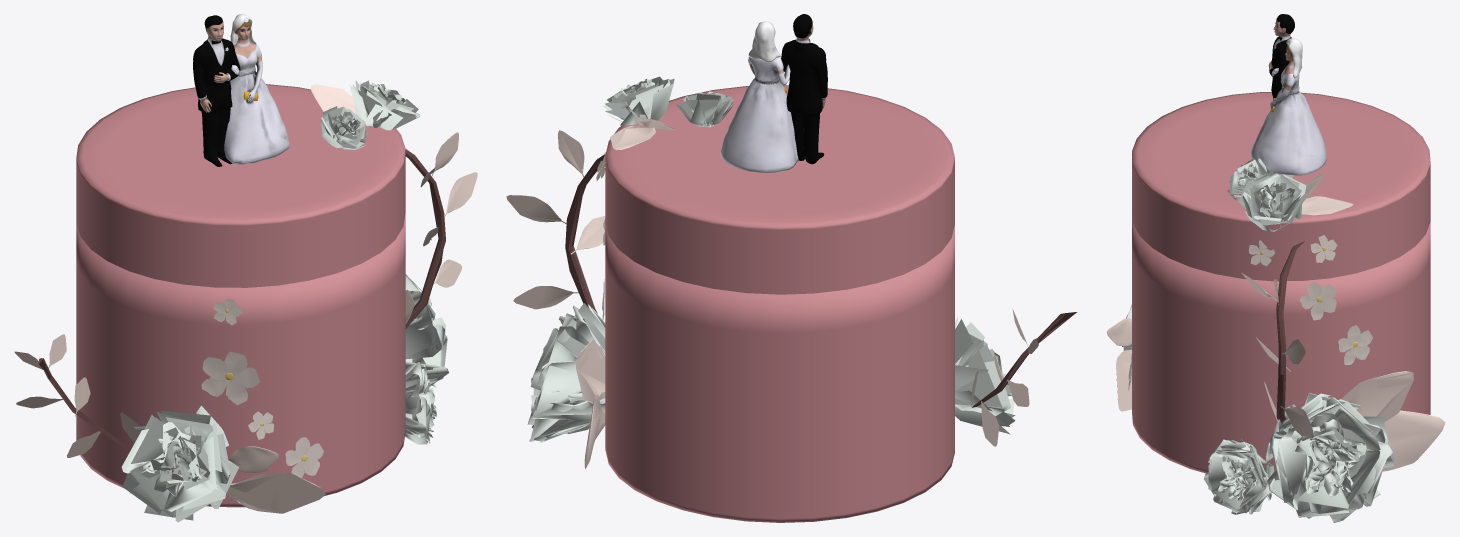
Rendered from 1-tier-blush-roses-bridegroom.glb.
The picture shows the model from 3 angles, left to right: view 1: azimuth 30°, elevation 25°; view 2: azimuth 150°, elevation 25°; view 3: azimuth 270°, elevation 25°; orthographic projection. The views are drawn at different scales.
Visible parts, largest first — view 1: Cylinder.019, 13501_Cake_Topper_Bride_Groom_v1_L1.004, grid.039, Plane.083, Plane.074, Plane.075, grid.038, grid.041, grid.033, Sphere.050, grid.035, Sphere.054 (+2 smaller); view 2: Cylinder.019, 13501_Cake_Topper_Bride_Groom_v1_L1.004, grid.038, Plane.083, grid.039, grid.041, Plane.075, Plane.079, grid.035, Plane.086, Plane.080; view 3: Cylinder.019, grid.038, 13501_Cake_Topper_Bride_Groom_v1_L1.004, grid.033, grid.041, Plane.083, Plane.080, Plane.079, Sphere.057, Sphere.059, Plane.074, grid.035 (+4 smaller).
Boxes of the visible parts, x1=… form: Cylinder.019: x1=76, y1=84, x2=405, y2=507; 13501_Cake_Topper_Bride_Groom_v1_L1.004: x1=193, y1=14, x2=289, y2=166; grid.039: x1=121, y1=405, x2=238, y2=522; Plane.083: x1=405, y1=132, x2=477, y2=328; Plane.074: x1=226, y1=473, x2=325, y2=513; Plane.075: x1=14, y1=334, x2=140, y2=457; grid.038: x1=405, y1=274, x2=448, y2=388; grid.041: x1=349, y1=80, x2=420, y2=130; grid.033: x1=405, y1=362, x2=436, y2=444; Sphere.050: x1=201, y1=351, x2=260, y2=405; grid.035: x1=320, y1=106, x2=367, y2=149; Sphere.054: x1=285, y1=437, x2=323, y2=477; Cylinder.019: x1=605, y1=85, x2=954, y2=522; 13501_Cake_Topper_Bride_Groom_v1_L1.004: x1=720, y1=14, x2=827, y2=173; grid.038: x1=527, y1=303, x2=605, y2=442; Plane.083: x1=506, y1=130, x2=606, y2=313; grid.039: x1=955, y1=317, x2=1015, y2=434; grid.041: x1=603, y1=76, x2=674, y2=126; Plane.075: x1=970, y1=309, x2=1076, y2=446; Plane.079: x1=576, y1=340, x2=605, y2=403; grid.035: x1=676, y1=91, x2=734, y2=127; Plane.086: x1=610, y1=125, x2=655, y2=150; Plane.080: x1=584, y1=395, x2=605, y2=468; Cylinder.019: x1=1132, y1=92, x2=1430, y2=473; grid.038: x1=1266, y1=393, x2=1393, y2=522; 13501_Cake_Topper_Bride_Groom_v1_L1.004: x1=1251, y1=14, x2=1326, y2=175; grid.033: x1=1204, y1=439, x2=1273, y2=514; grid.041: x1=1238, y1=171, x2=1307, y2=231; Plane.083: x1=1241, y1=241, x2=1313, y2=435; Plane.080: x1=1382, y1=410, x2=1445, y2=471; Plane.079: x1=1341, y1=371, x2=1413, y2=422; Sphere.057: x1=1299, y1=282, x2=1336, y2=320; Sphere.059: x1=1338, y1=325, x2=1372, y2=365; Plane.074: x1=1116, y1=349, x2=1131, y2=411; grid.035: x1=1227, y1=158, x2=1271, y2=200.
Size of the model in its own units: 4.49 by 3.93 by 2.9.
Materials: 7 (1 with a texture image).
